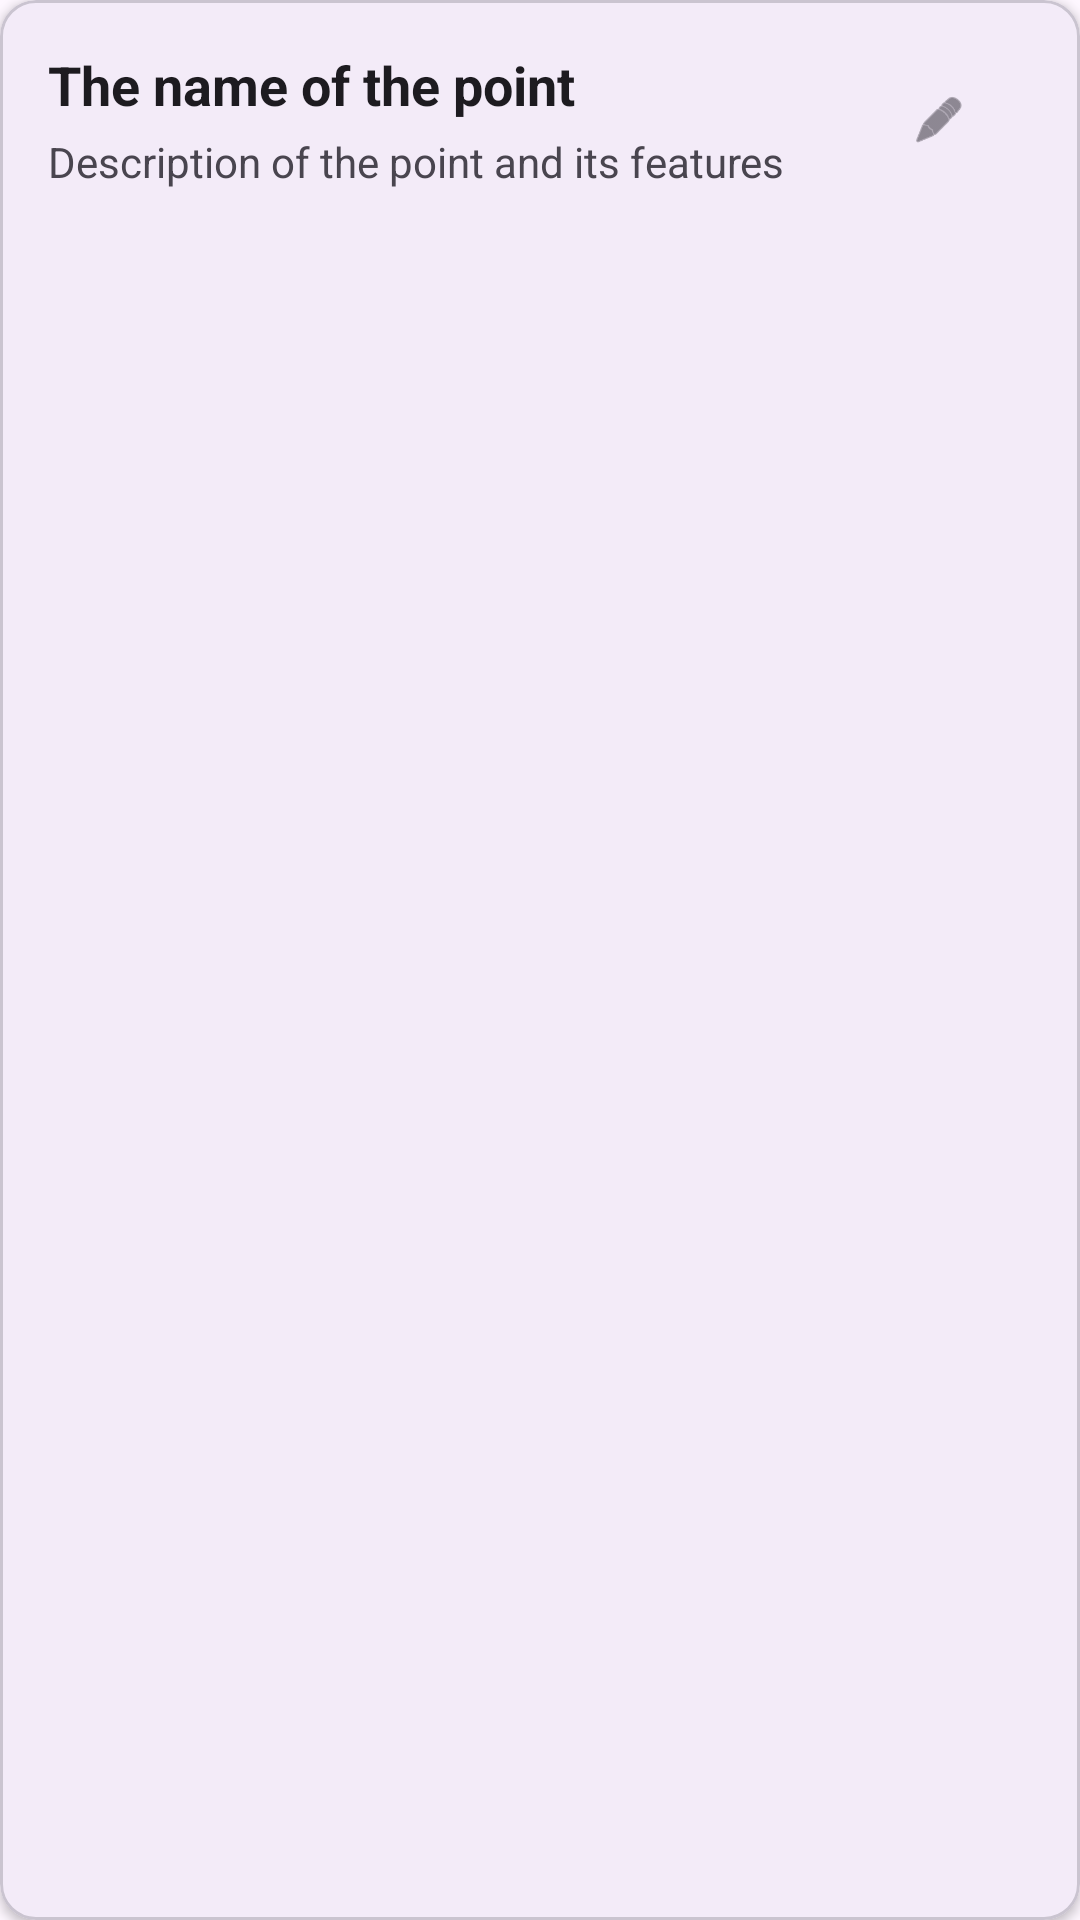

Where icons sit on this 1080w x 1920h app screen, as Rect(x1, y1, x2, y2):
Editing the point: Rect(916, 97, 962, 142)
